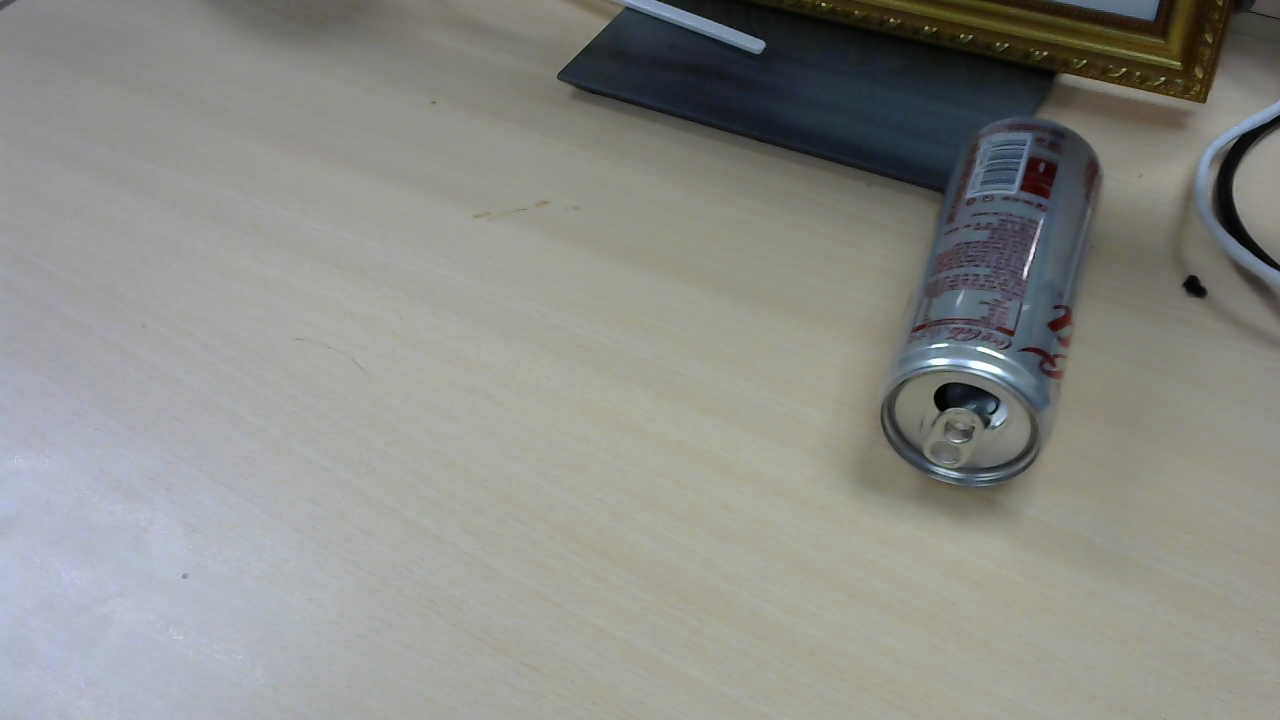Coca_Cola: (885, 121, 1109, 496)
